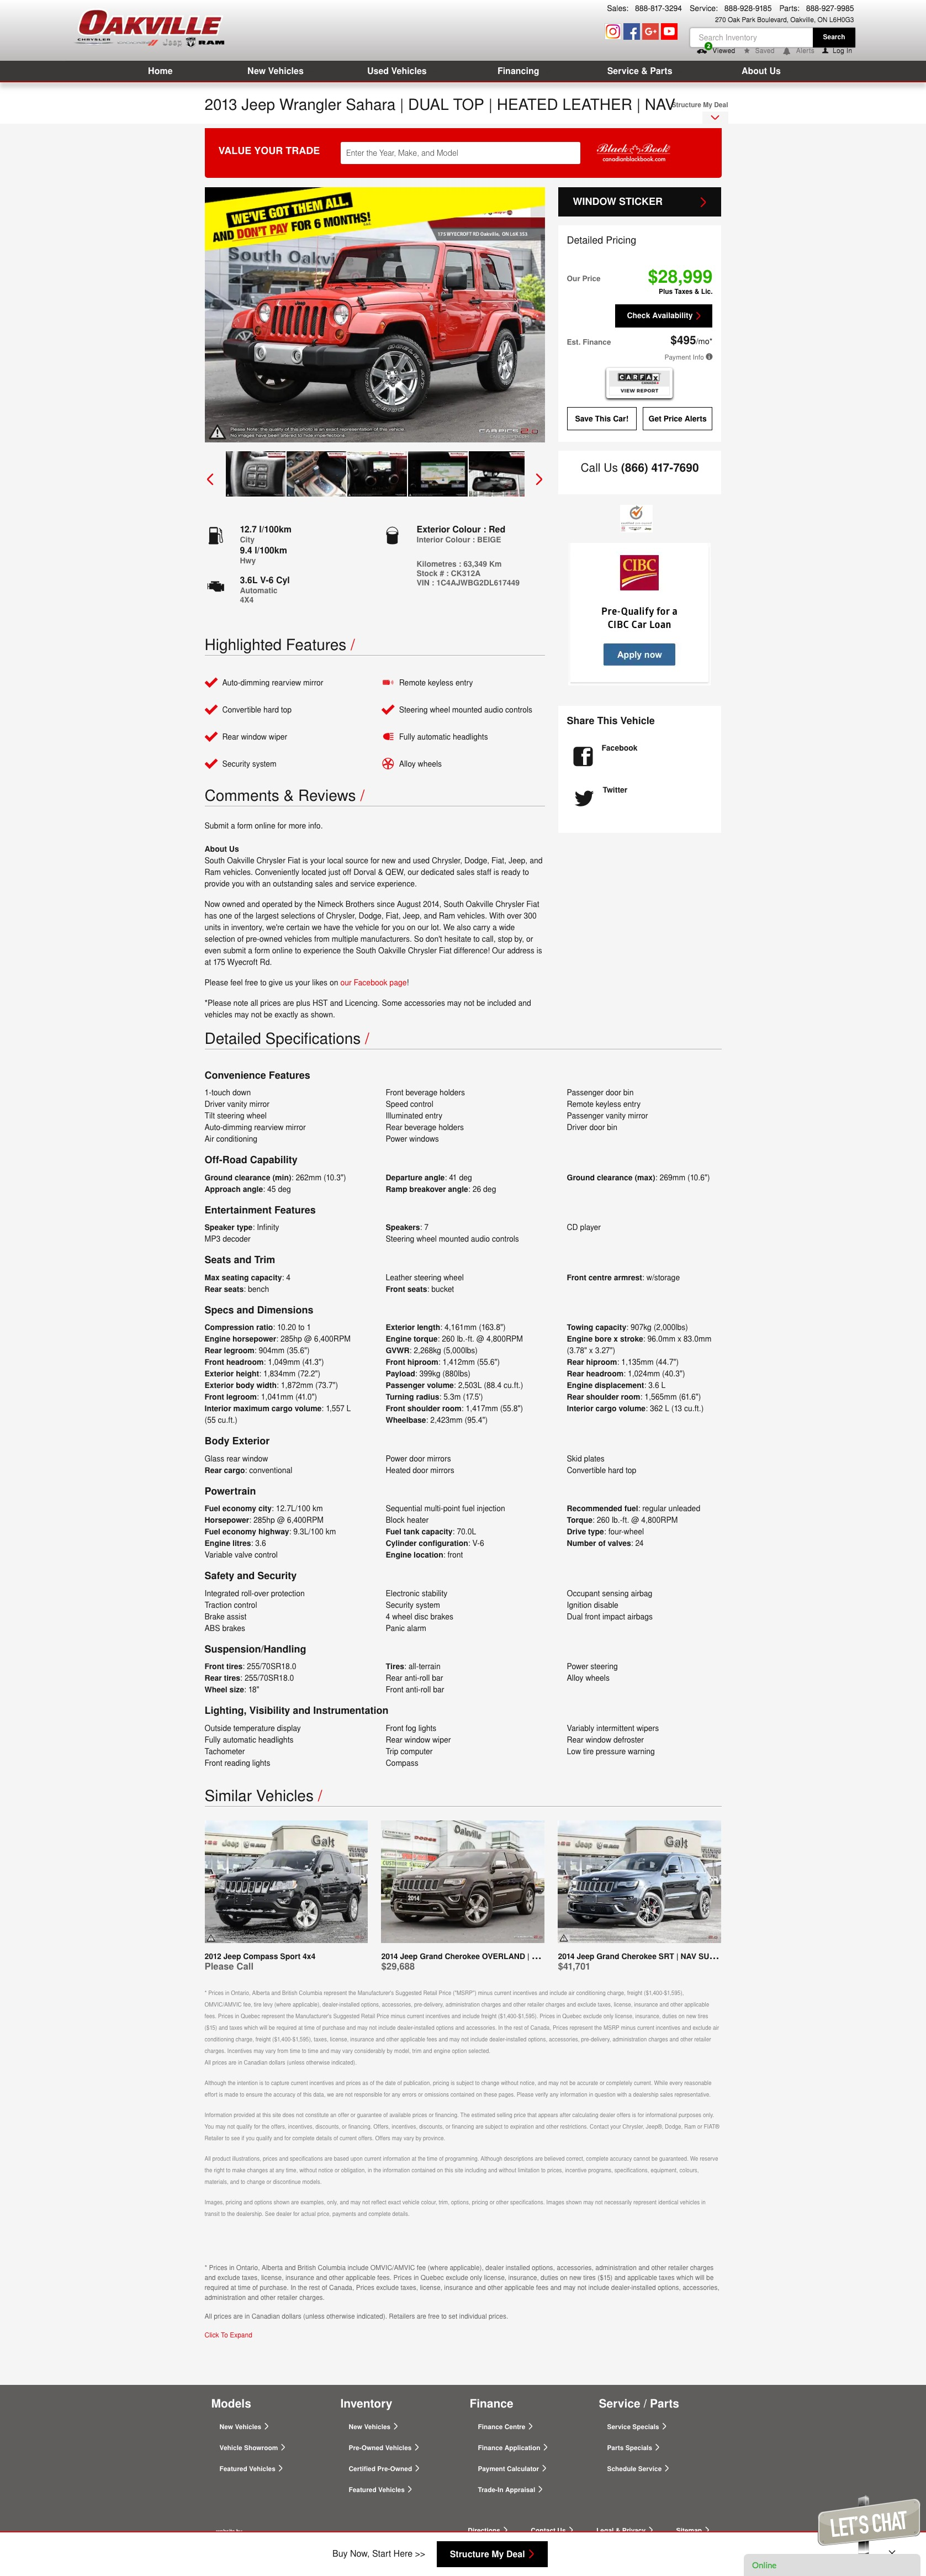car: (535, 473, 543, 486)
